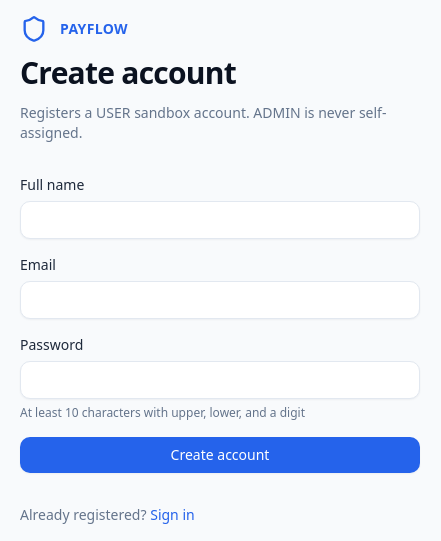
Test case: login and registration UI › blocks weak registration passwords client-side
Check: the heading "Create account" is shown, box [20,52,236,93]
Type "Ada Lovelace" into the field labelled "Full name" at (220, 220), box [20,201,420,239]
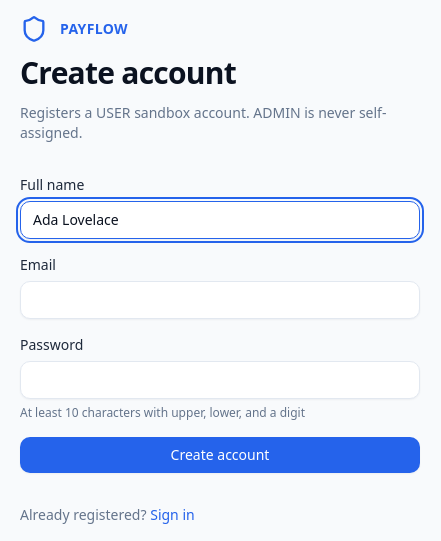
Type "ada@example.com" into the field labelled "Email" at (220, 300), box [20,281,420,319]
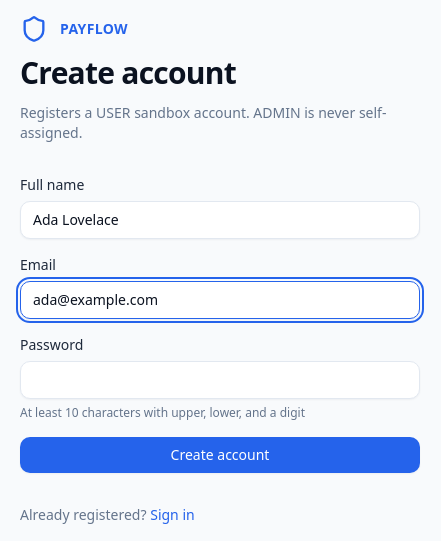
Type "weak" into the password field labelled "Password" at (220, 380), box [20,361,420,399]
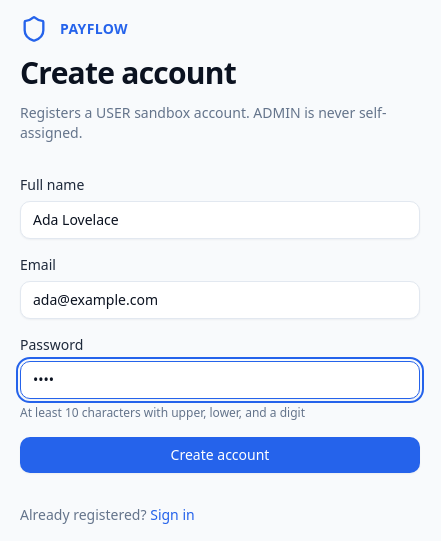
Click the button "Create account" at (220, 455), box [20,437,420,473]
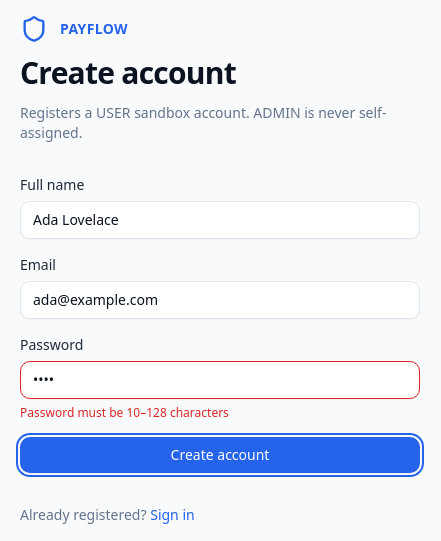
Check: the text "Password must be 10–128 characters" is shown, box [20,404,229,421]
